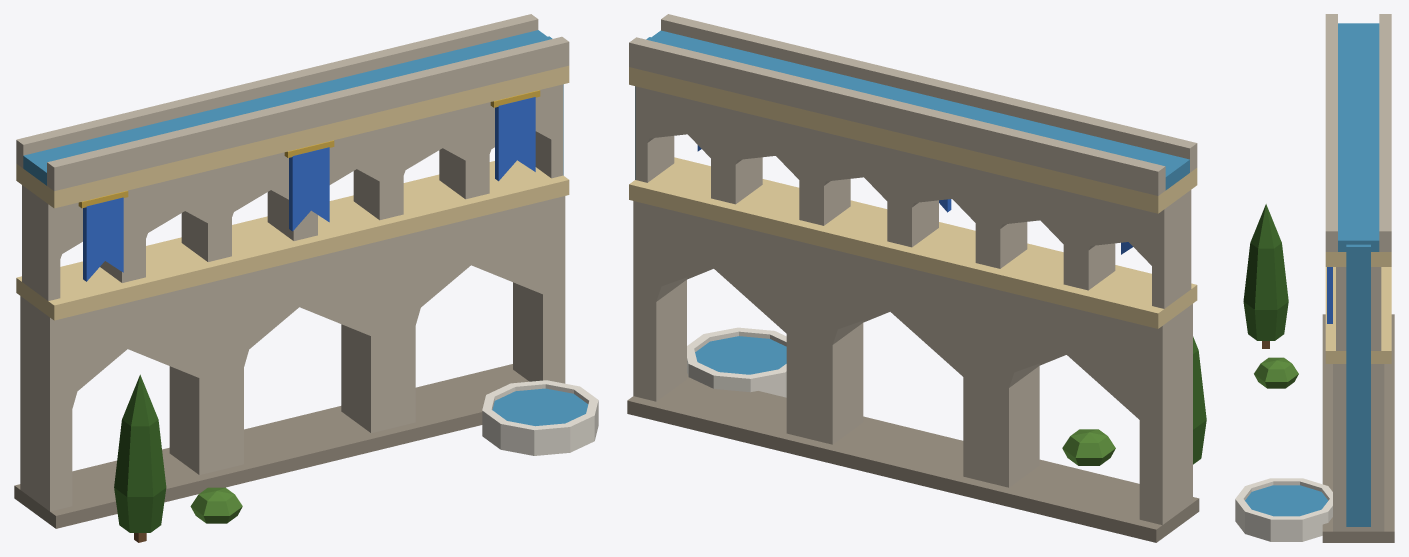
File: bld_aqueduct.glb
3 renders of one model, left to right at view 1: azimuth 30°, elevation 25°; view 2: azimuth 150°, elevation 25°; view 3: azimuth 270°, elevation 25°, orthographic. The views are drawn at different scales.
Visible parts, largest first — view 1: bld_aqueduct; view 2: bld_aqueduct; view 3: bld_aqueduct.
Boxes of the visible parts, bbox=[...] form: bld_aqueduct: bbox=[14, 14, 598, 542]; bld_aqueduct: bbox=[627, 14, 1206, 542]; bld_aqueduct: bbox=[1235, 14, 1394, 542].
Size of the model in its own units: 0.506 by 0.334 by 0.155.
